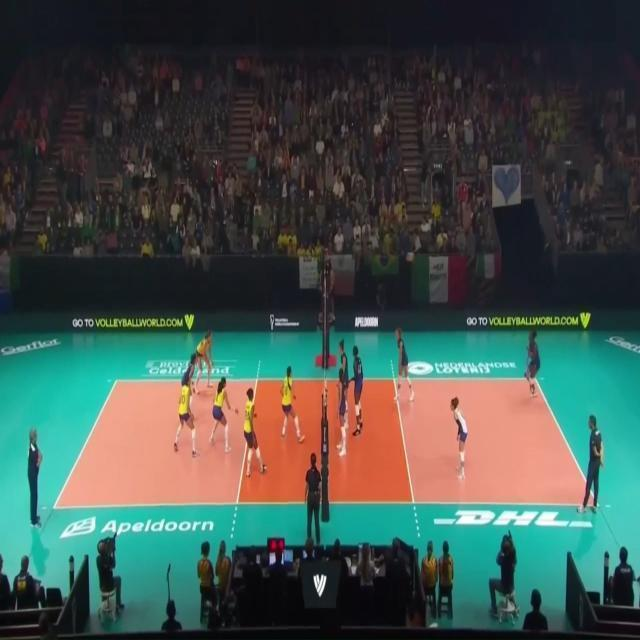volleyball: (401, 248, 415, 262)
